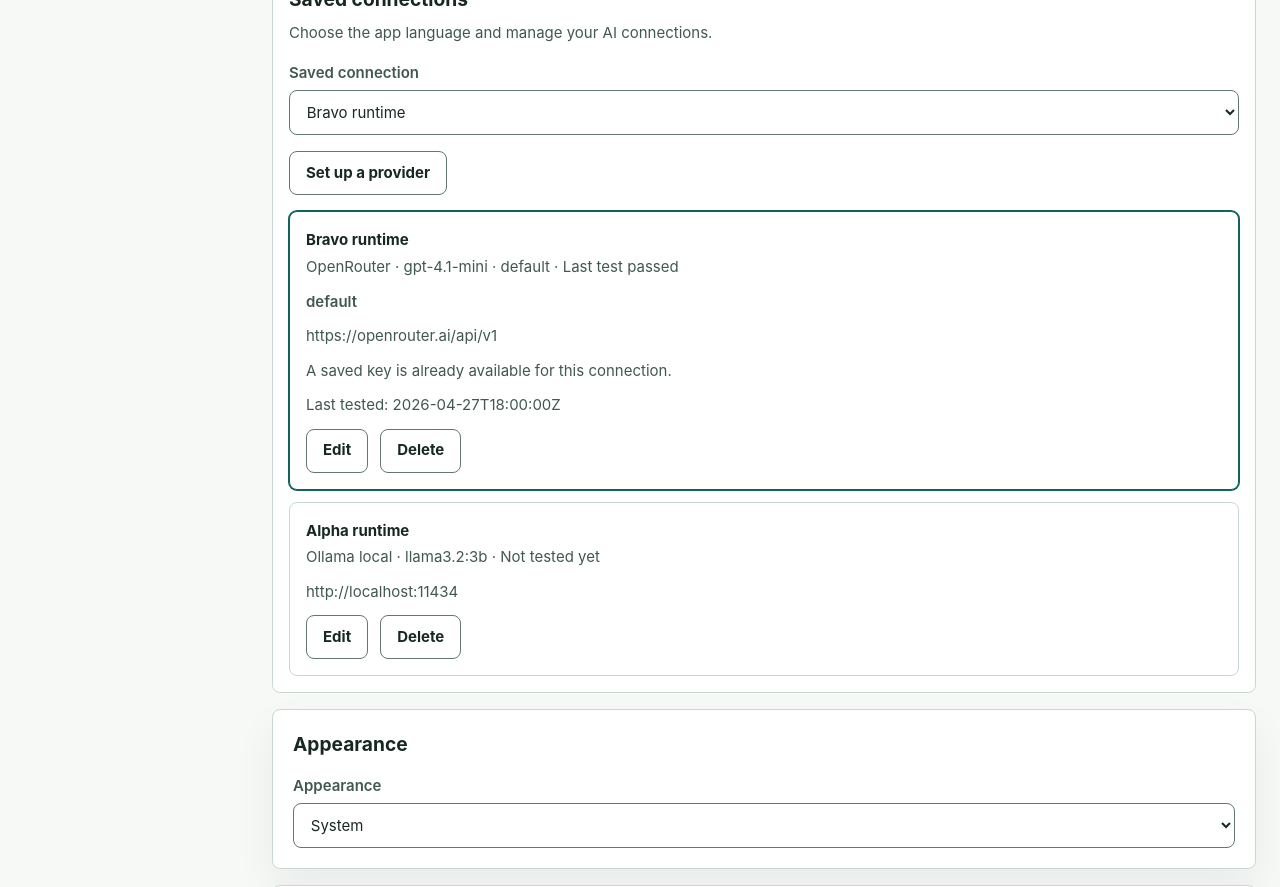
Test case: Settings route › shows a session-only warning after returning from Setup
(page scrolled)
Click the button with test id "settings.connection_row_edit" below "Last tested: 2026-04-27T18:00:00Z". click: (337, 451)
box: [306, 429, 368, 473]
(page scrolled)
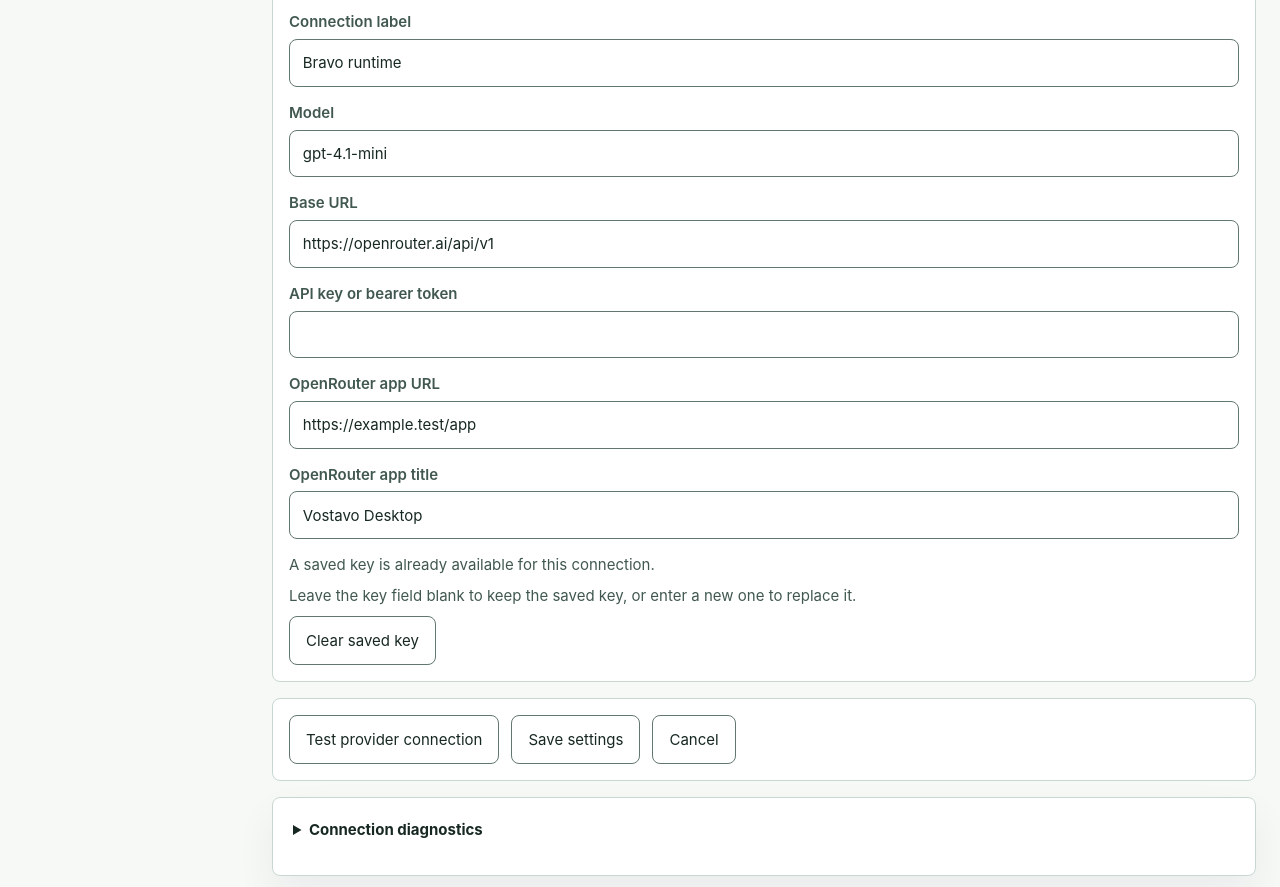
Click the button with test id "runtime_connection.save_connection". click: (576, 739)
box: [512, 715, 640, 764]
(page scrolled)
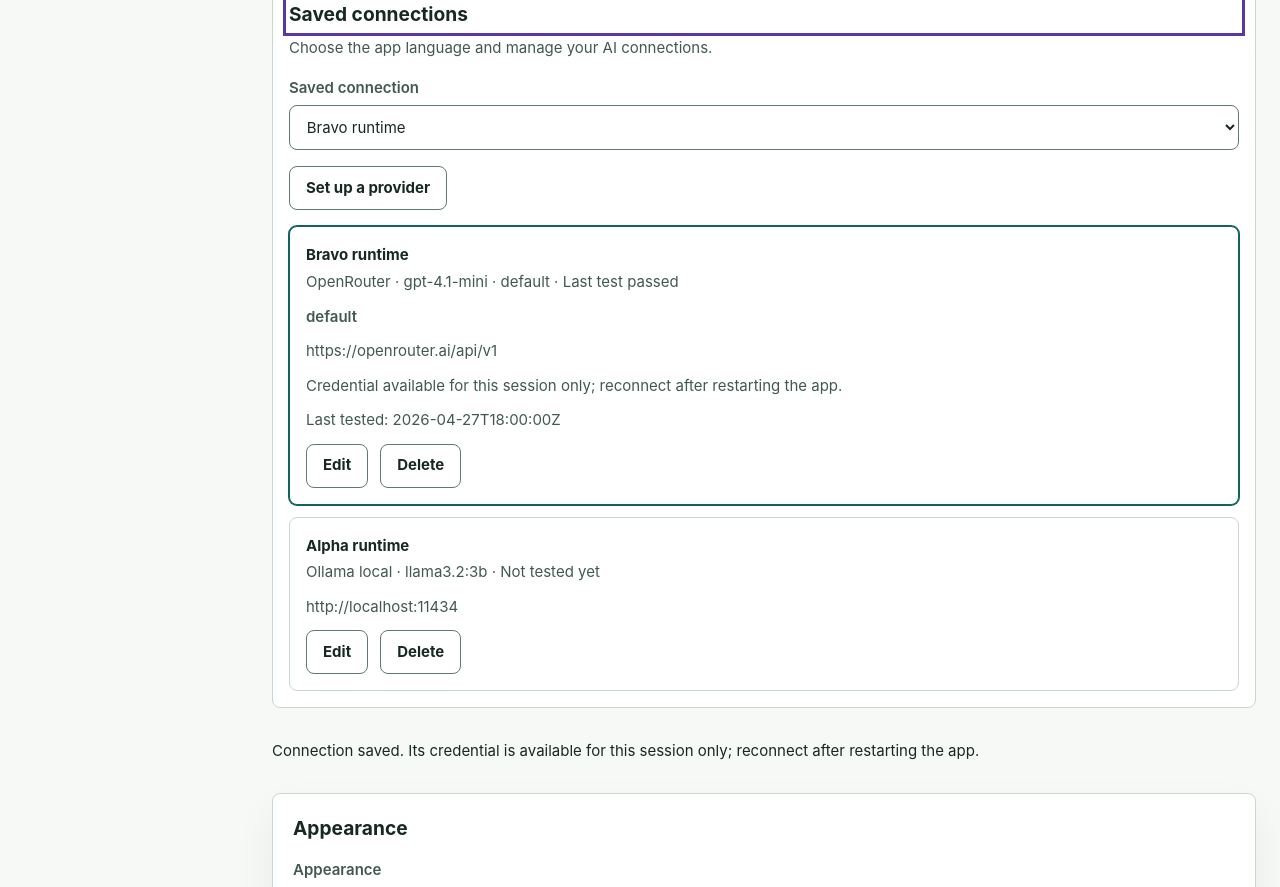
Expected: the dropdown with test id "settings.connection_id" is shown, [289, 105, 1239, 150]
Expected: the text "credential is available for this session only" is shown, [272, 741, 979, 760]
Expected: the text "A saved key is already available for this connection." is gone
